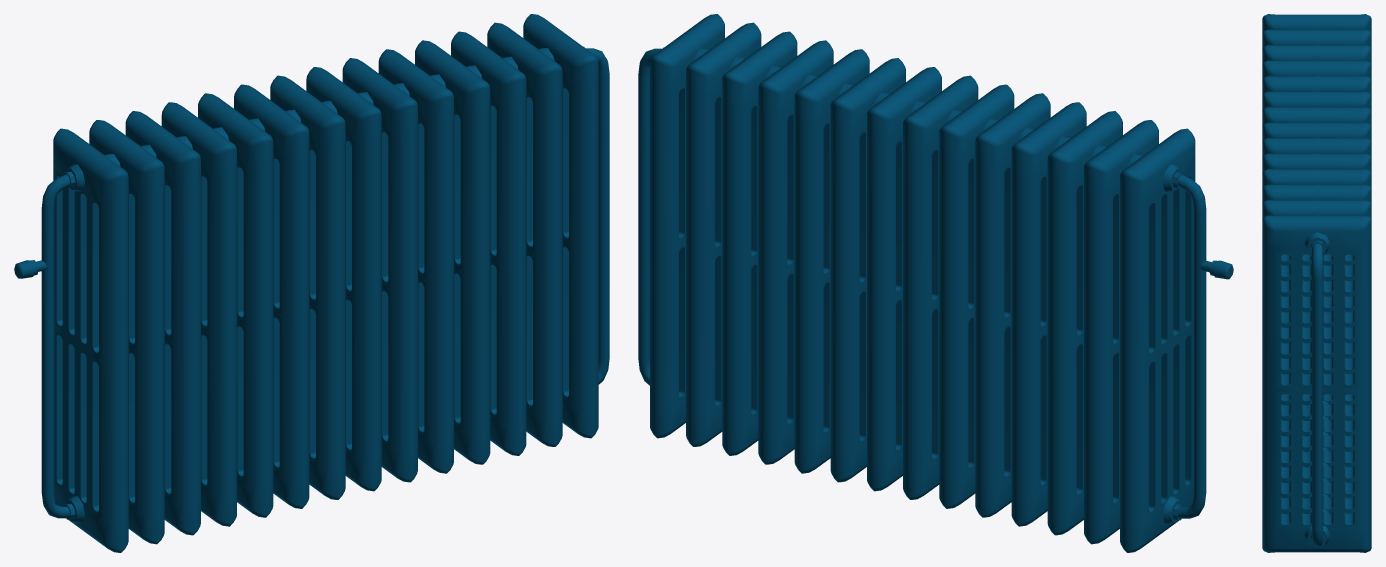
File: Estufa.fbx
3 views of the same model, side by side, from view 1: azimuth 30°, elevation 25°; view 2: azimuth 150°, elevation 25°; view 3: azimuth 270°, elevation 25° (orthographic). The views are drawn at different scales.
Visible parts, largest first — view 1: Estufa; view 2: Estufa; view 3: Estufa.
Boxes of the visible parts, <box> form: Estufa: <box>14,14,609,552</box>; Estufa: <box>638,14,1233,552</box>; Estufa: <box>1262,14,1371,552</box>.
Bounding box in the file's own units: 1.15 × 0.7072 × 0.2085.
